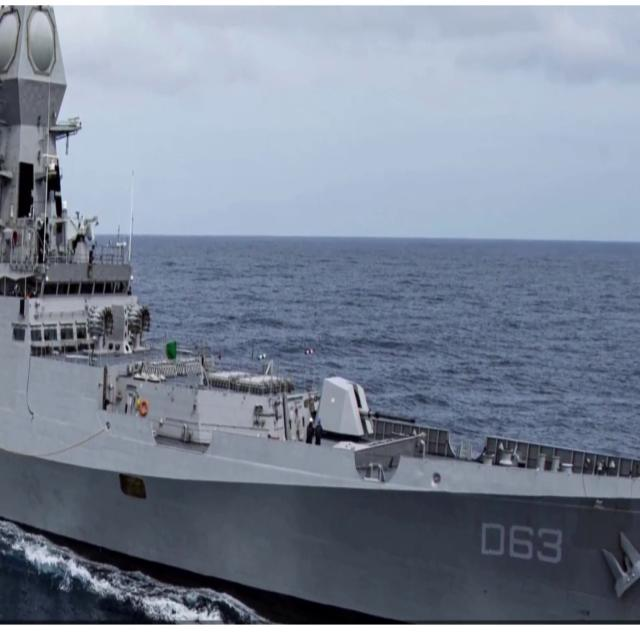OCR: (478, 514, 570, 578)
